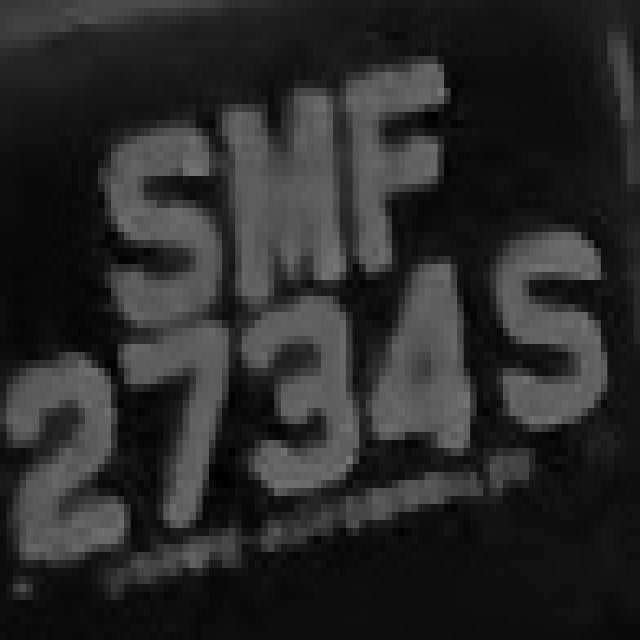2: (0, 344, 124, 592)
3: (222, 288, 359, 504)
4: (359, 240, 490, 480)
7: (124, 328, 235, 536)
F: (314, 40, 464, 288)
M: (209, 72, 340, 272)
S: (477, 208, 614, 448), (91, 136, 216, 352)
